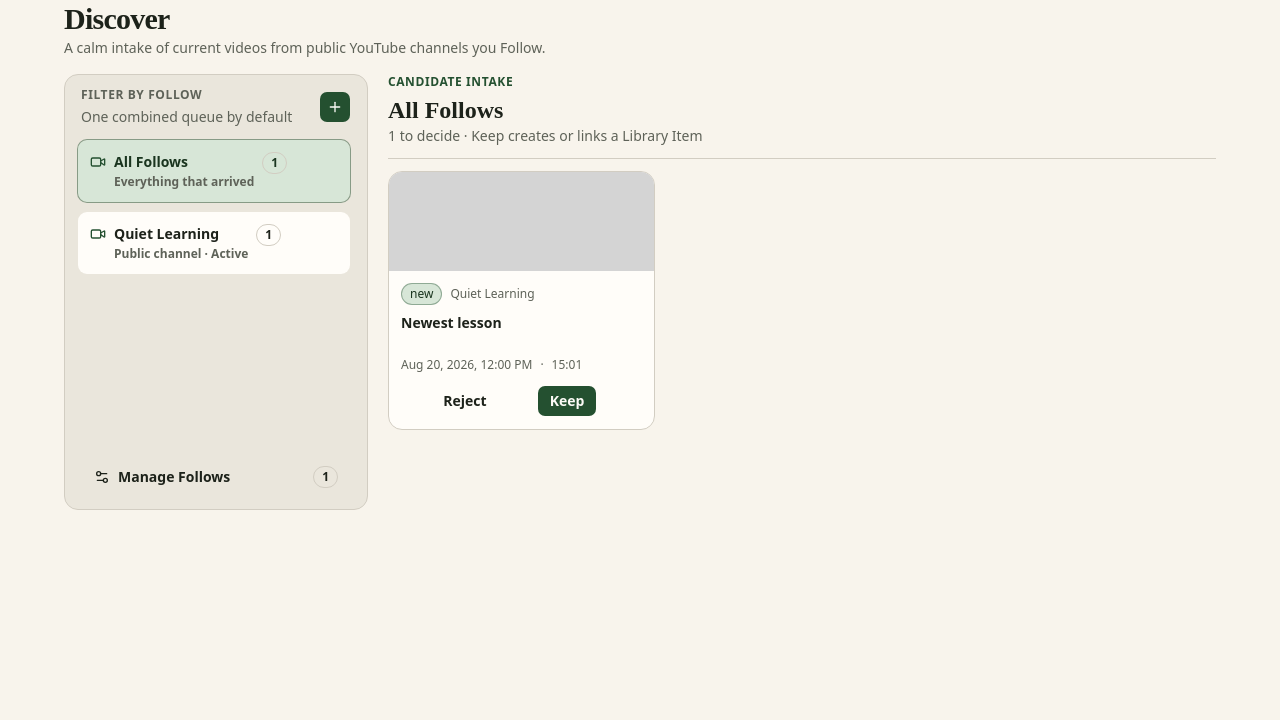
Scenario: Discover channel preview › opens Keep with defaults and focuses invalid Title
Click the button with aria-label "Keep Newest lesson": (567, 401) [537, 385, 597, 417]
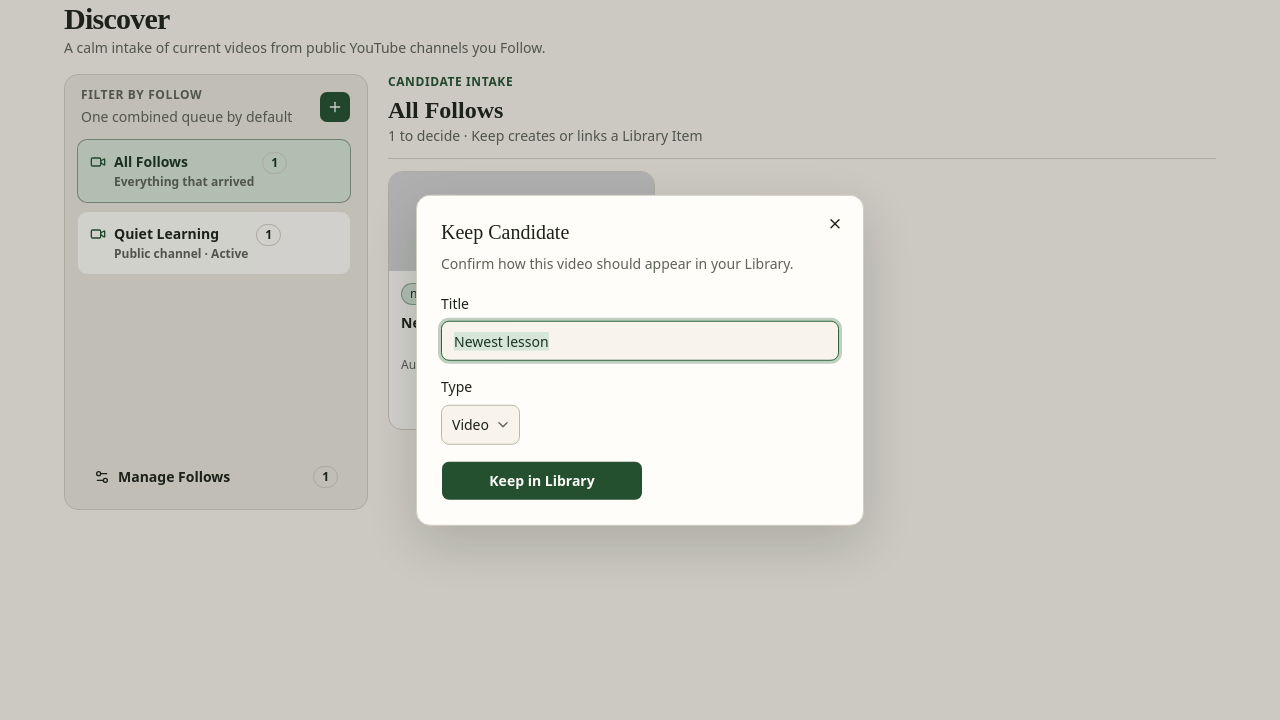
Check: the field labelled "Title" holds "Newest lesson"
Check: the dropdown named "Type" reads "Video", box [441, 404, 520, 444]
Clear the field labelled "Title": (640, 341) [441, 321, 839, 361]
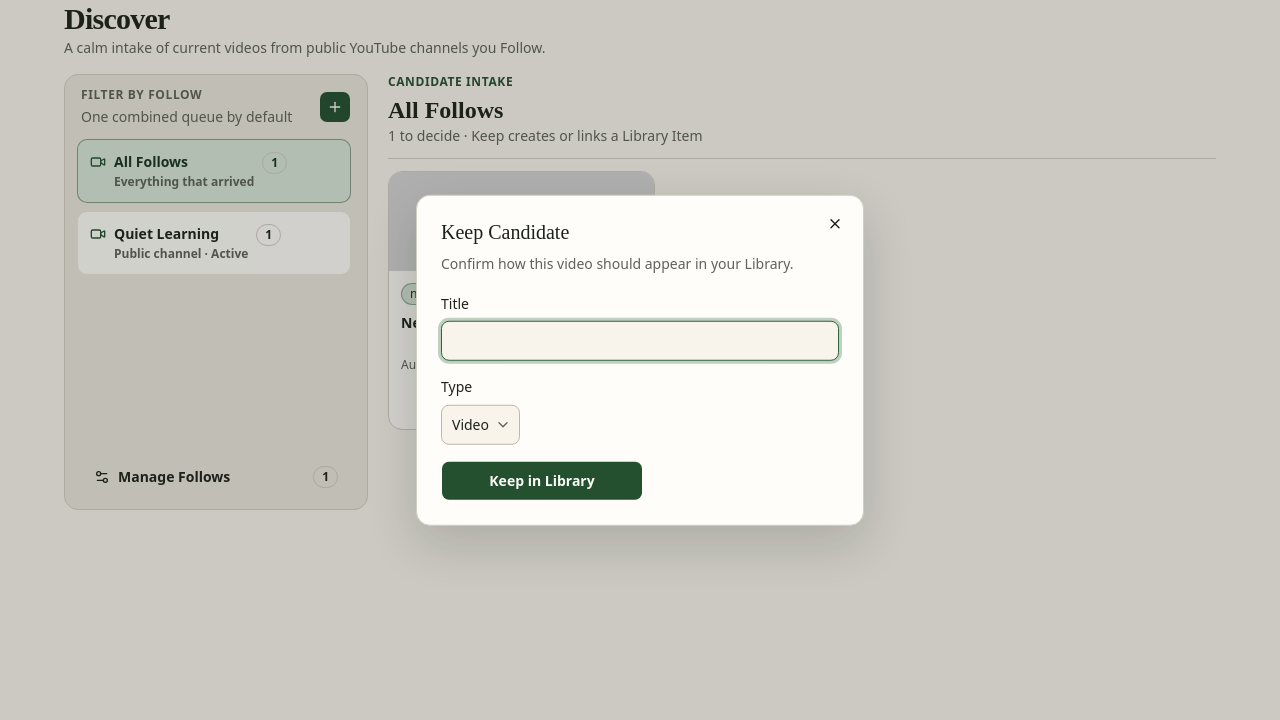
Click the button "Keep in Library": (542, 480) [441, 460, 643, 500]
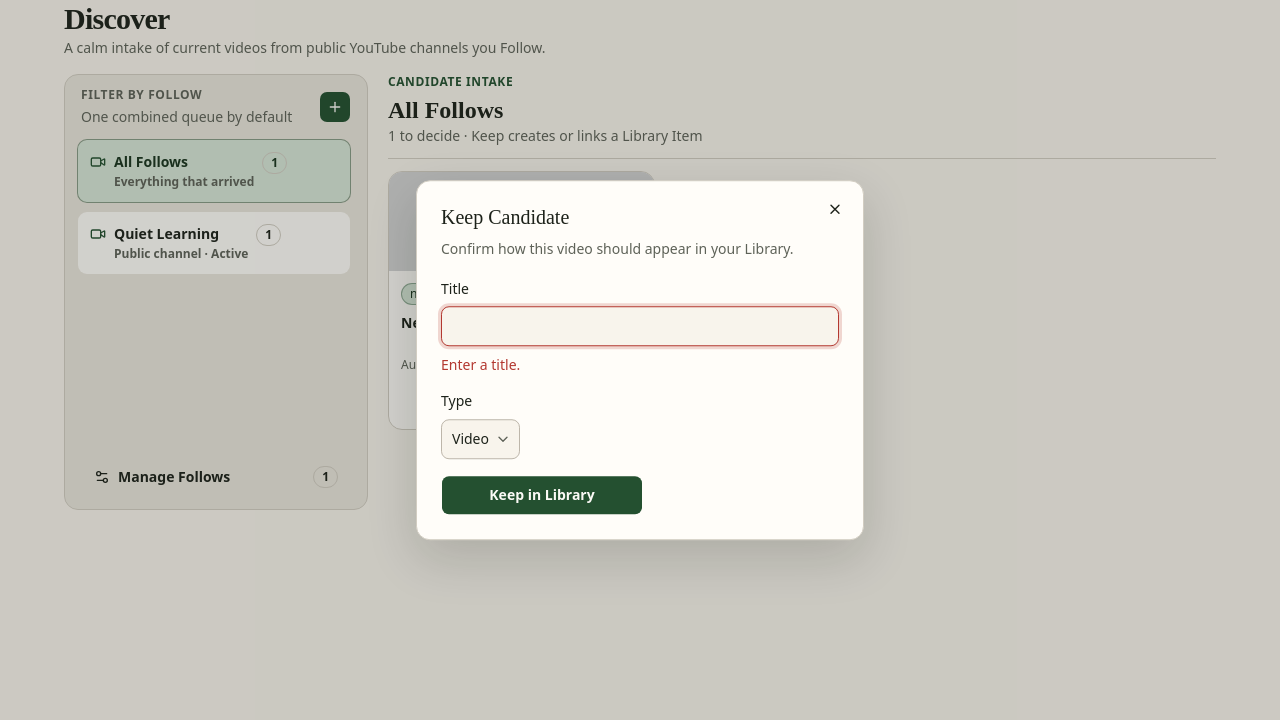
Check: the text "Enter a title." is shown, box [441, 356, 520, 374]
